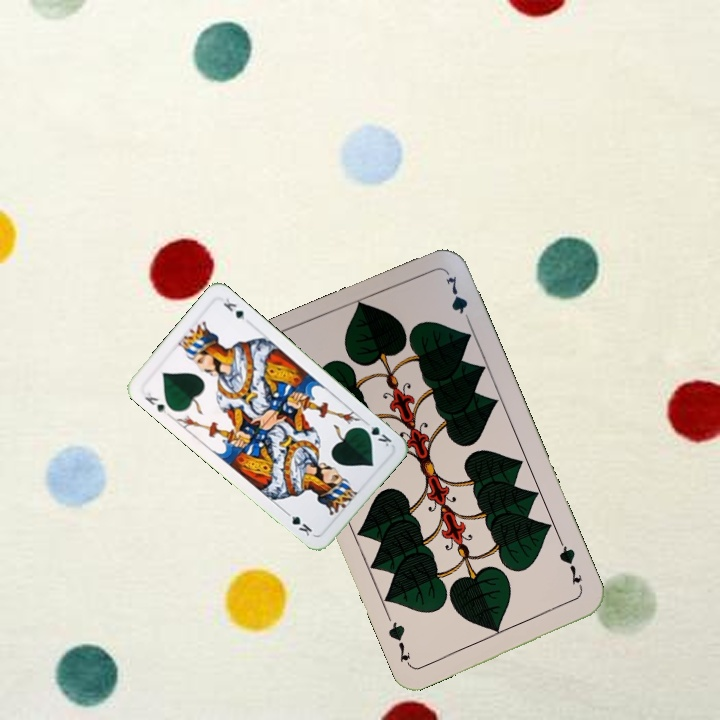G7: (555, 537, 586, 594)
GK: (357, 417, 394, 449), (140, 388, 170, 416)
